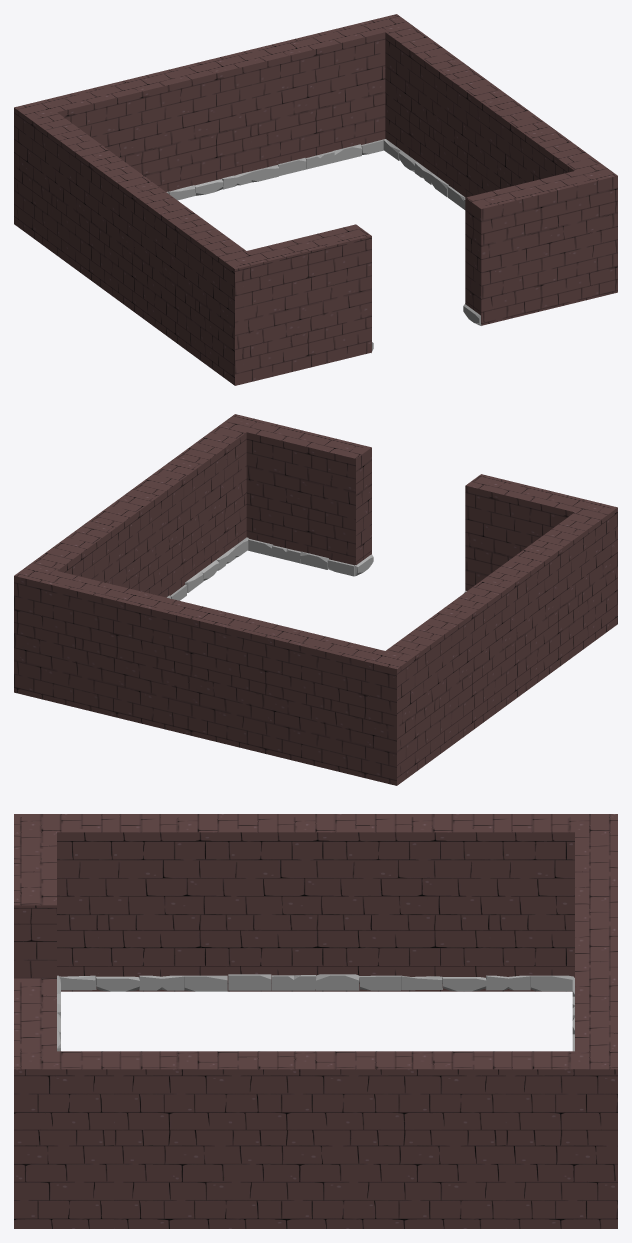
Rendered from MuriC_wall.fbx.
3 renders of one model, top to bottom at view 1: azimuth 30°, elevation 25°; view 2: azimuth 150°, elevation 25°; view 3: azimuth 270°, elevation 25°, orthographic. The views are drawn at different scales.
Visible parts, largest first — view 1: C_wall; view 2: C_wall; view 3: C_wall.
Boxes of the visible parts, x1,y1,x2,y2 form: C_wall: (14, 14, 617, 385); C_wall: (14, 414, 617, 785); C_wall: (14, 814, 617, 1228).
Bounding box in the file's own units: 1400 × 411 × 1400.
Materials: 2 (1 with a texture image).
